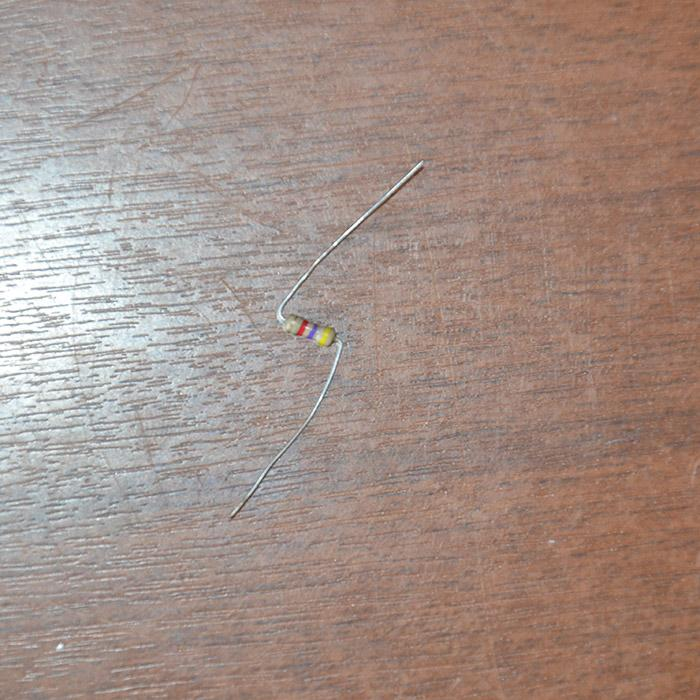resistor: (282, 312, 338, 348)
